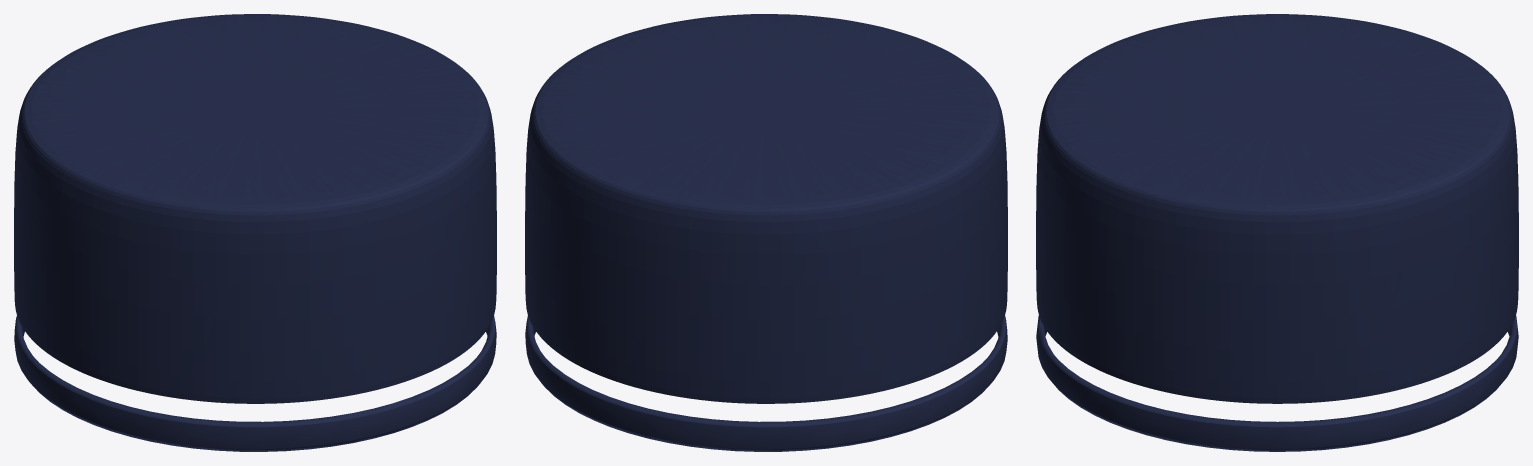
3 renders of one model, left to right at view 1: azimuth 30°, elevation 25°; view 2: azimuth 150°, elevation 25°; view 3: azimuth 270°, elevation 25°, orthographic.
Size of the model in its own units: 0.1303 by 0.0725 by 0.1303.
